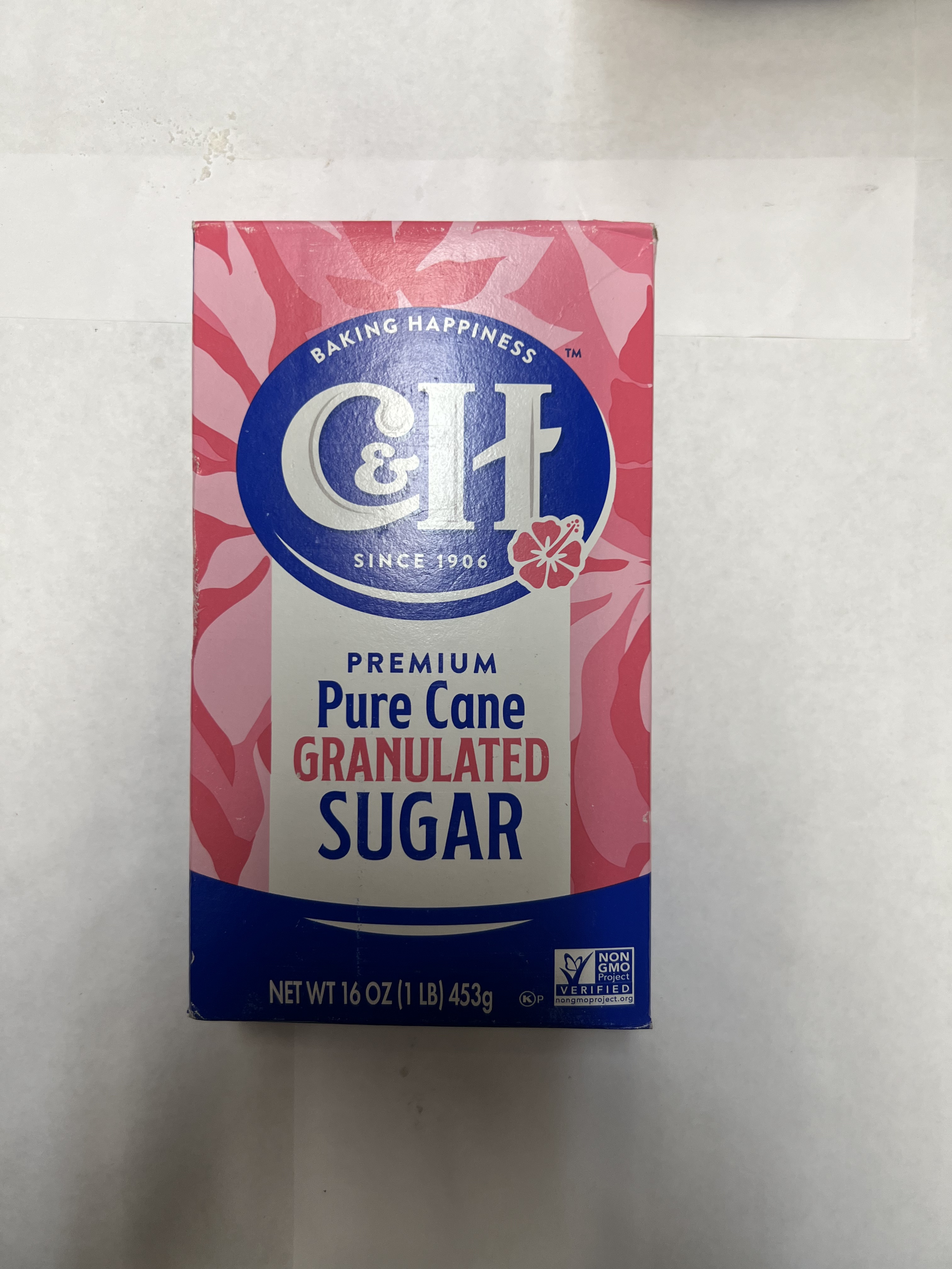packaged: (184, 215, 661, 1037)
